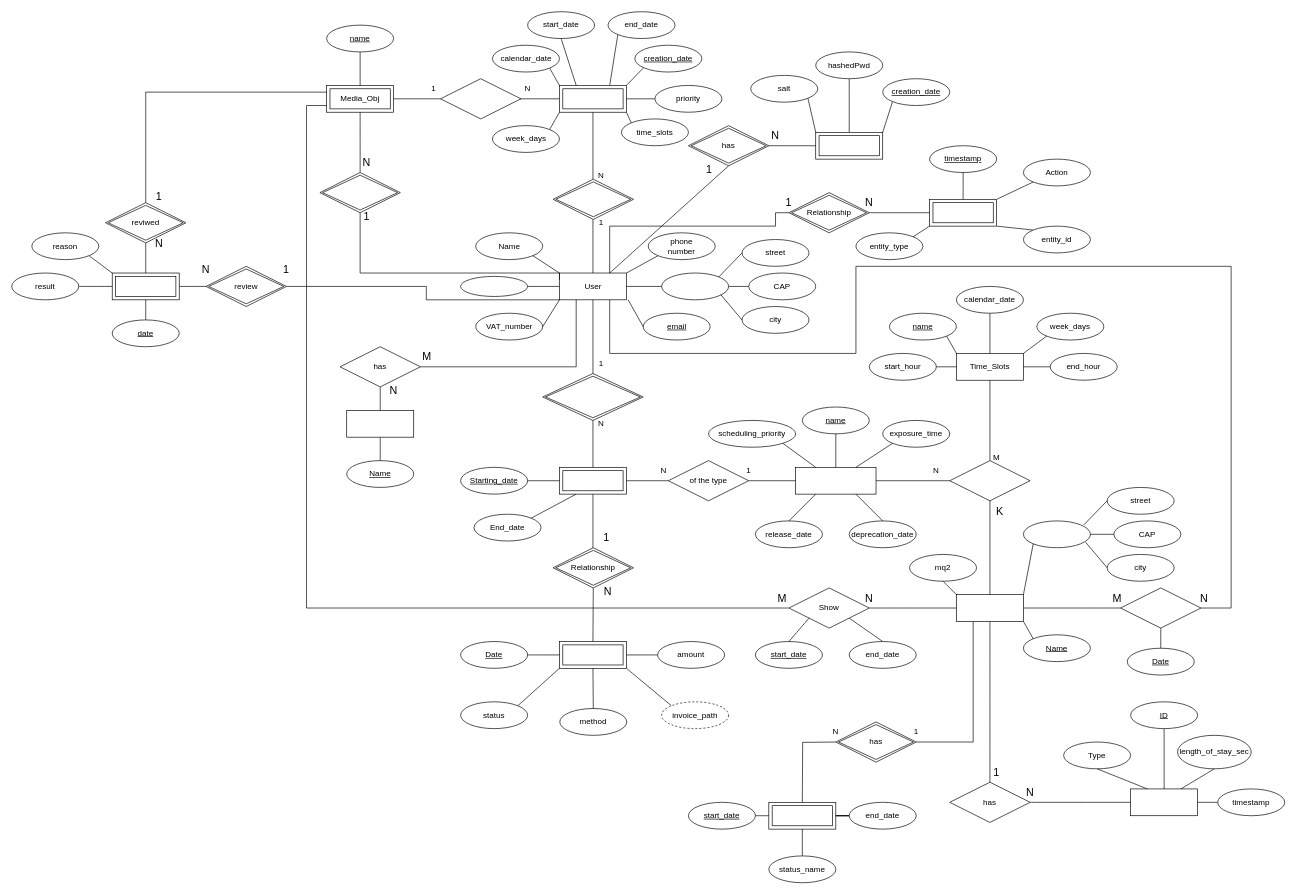
This 1296x894 diagram has some shape labels left out. Each missing label, with the centre of its shape:
"address" goes at pixel 1056 534.
"adress" goes at pixel 695 286.
"Audit_Log" goes at pixel 963 212.
"billboard" goes at pixel 989 607.
"billboard_status" goes at pixel 802 815.
"Campaing" goes at pixel 592 98.
"Credential" goes at pixel 849 145.
"Include" goes at pixel 480 98.
"Media_Review" goes at pixel 145 286.
"Override scheduling" goes at pixel 1160 607.
"Payment" goes at pixel 592 654.
"Role" goes at pixel 380 423.
"runned_on" goes at pixel 989 480.
"Start" goes at pixel 592 199.
"Subscribe" goes at pixel 592 396.
"Subscription" goes at pixel 592 480.
"Subscription_Plans" goes at pixel 835 480.
"Surname" goes at pixel 494 286.
"Traffic_Detection" goes at pixel 1164 802.
"upload" goes at pixel 359 192.
